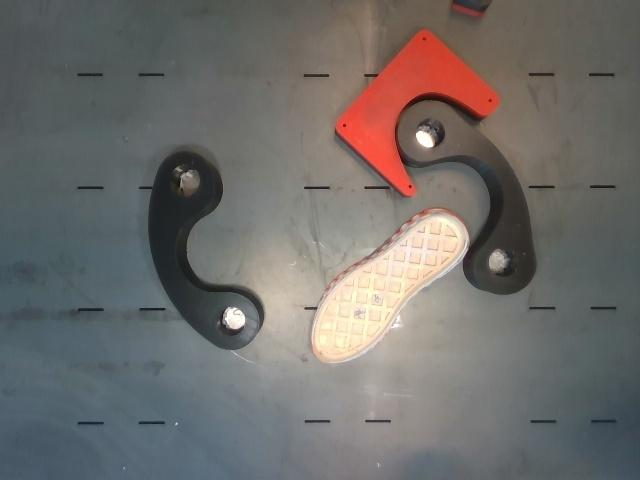shoes: (311, 214, 467, 363)
